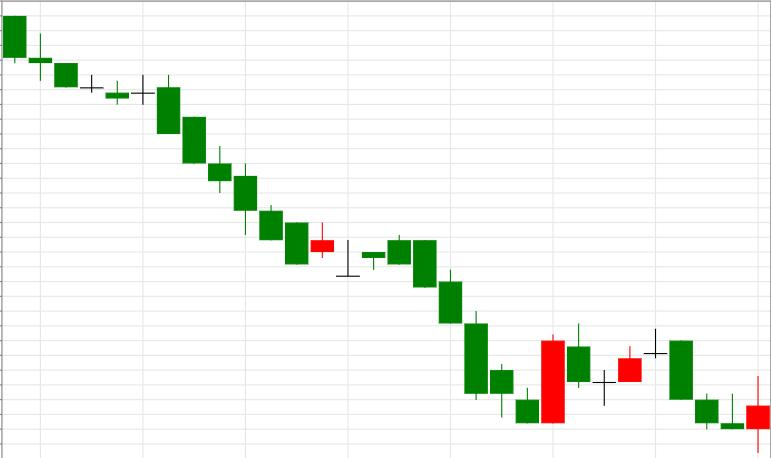bullish_engulfing_rise: (363, 233, 564, 424)
